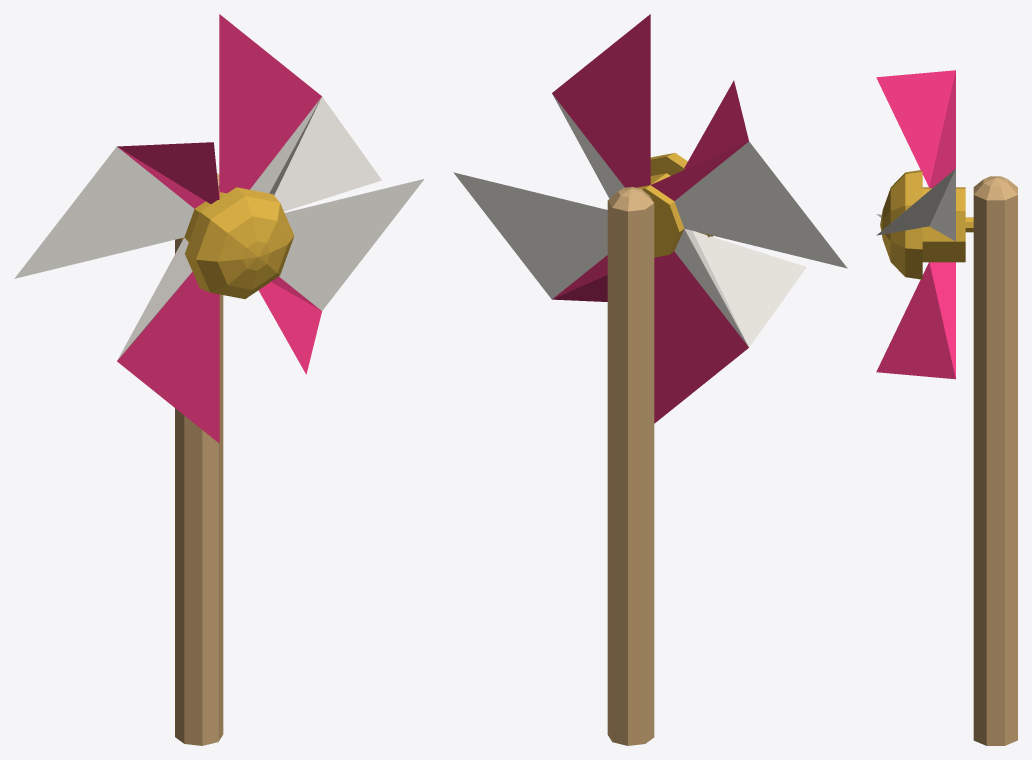
File: pinwheel.glb
The picture shows the model from 3 angles, left to right: view 1: azimuth 30°, elevation 25°; view 2: azimuth 150°, elevation 25°; view 3: azimuth 270°, elevation 25°; orthographic projection. The views are drawn at different scales.
Parts seen in each view (by area): view 1: BladesWhite, BladesPink, Stick, Hub; view 2: BladesWhite, Stick, BladesPink, Hub; view 3: Stick, BladesPink, Hub, BladesWhite.
Boxes of the visible parts, x1,y1,x2,y2 form: BladesWhite: (14,96,424,360); BladesPink: (117,14,321,443); Stick: (175,173,223,745); Hub: (181,187,294,298); BladesWhite: (453,94,847,347); Stick: (607,187,654,745); BladesPink: (552,14,748,423); Hub: (637,153,712,257); Stick: (973,176,1017,745); BladesPink: (876,70,955,379); Hub: (880,170,973,279); BladesWhite: (876,169,955,241).
Size of the model in its own units: 3.5 by 6 by 1.07.
